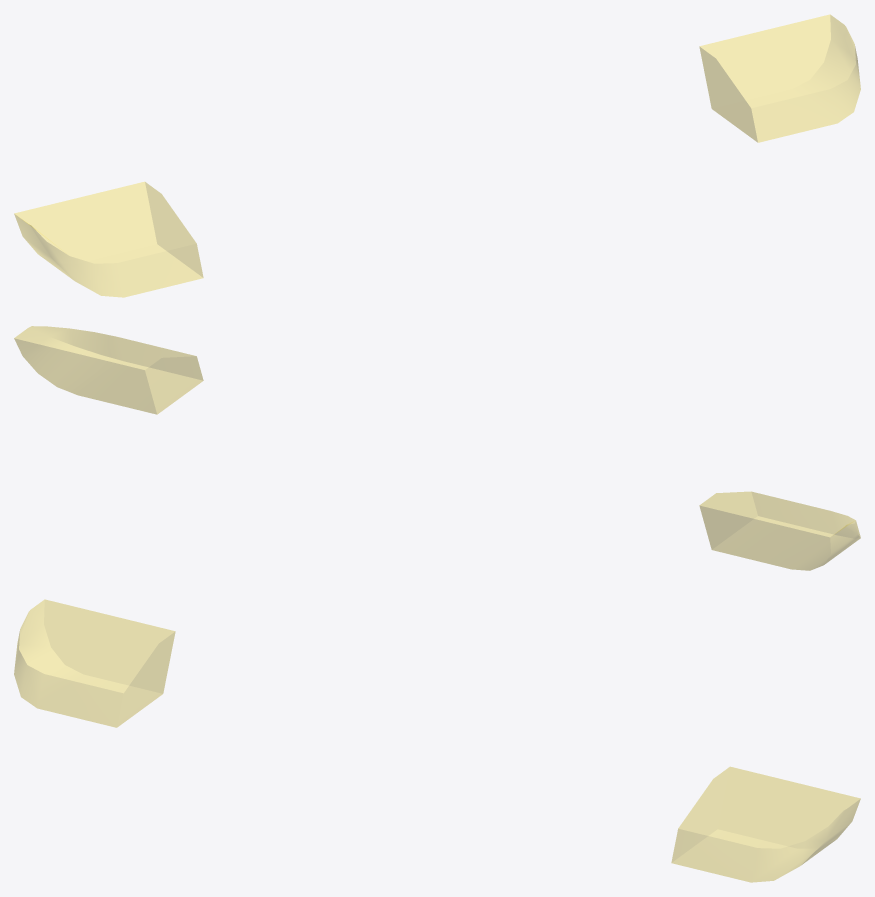
The model's file is acc_eyeline_yellow.glb.
3 renders of one model, top to bottom at view 1: azimuth 30°, elevation 25°; view 2: azimuth 150°, elevation 25°; view 3: azimuth 330°, elevation 25°, orthographic.
Visible parts, largest first — view 1: acc_eyeline_yellow_mesh; view 2: acc_eyeline_yellow_mesh; view 3: acc_eyeline_yellow_mesh.
Part boxes in pixels (left/top/right/bottom): acc_eyeline_yellow_mesh: left=14, top=14, right=860, bottom=297; acc_eyeline_yellow_mesh: left=14, top=326, right=860, bottom=570; acc_eyeline_yellow_mesh: left=14, top=599, right=860, bottom=882.
Bounding box in the file's own units: 1.78 × 0.1115 × 0.2217.
